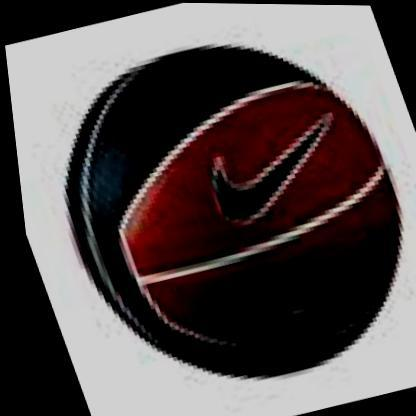basketball: (9, 7, 416, 416)
